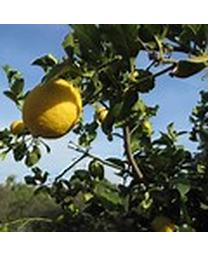lemon: (22, 78, 82, 138)
